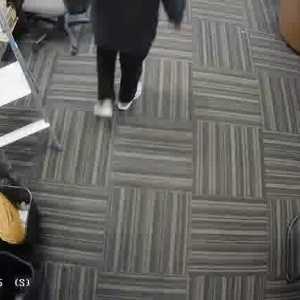person: (87, 0, 175, 123)
